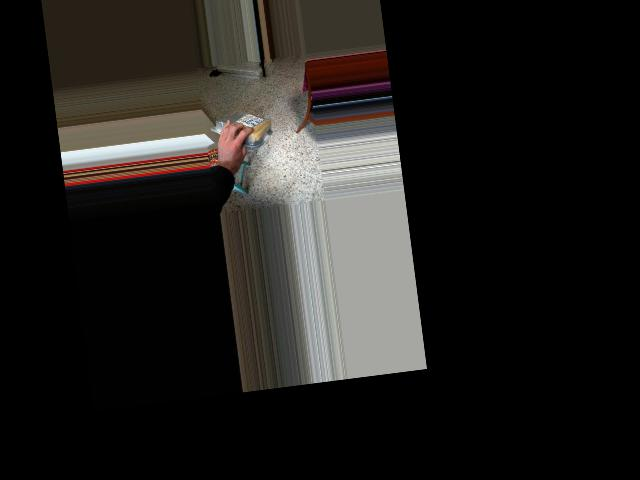cheese: (209, 109, 273, 147)
